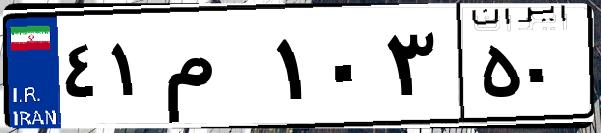0: (330, 28, 385, 110), (525, 38, 570, 115)
1: (270, 28, 330, 110), (110, 28, 158, 98)
3: (385, 28, 445, 110)
4: (57, 26, 110, 100)
5: (475, 38, 525, 113)
م: (158, 20, 270, 120)
